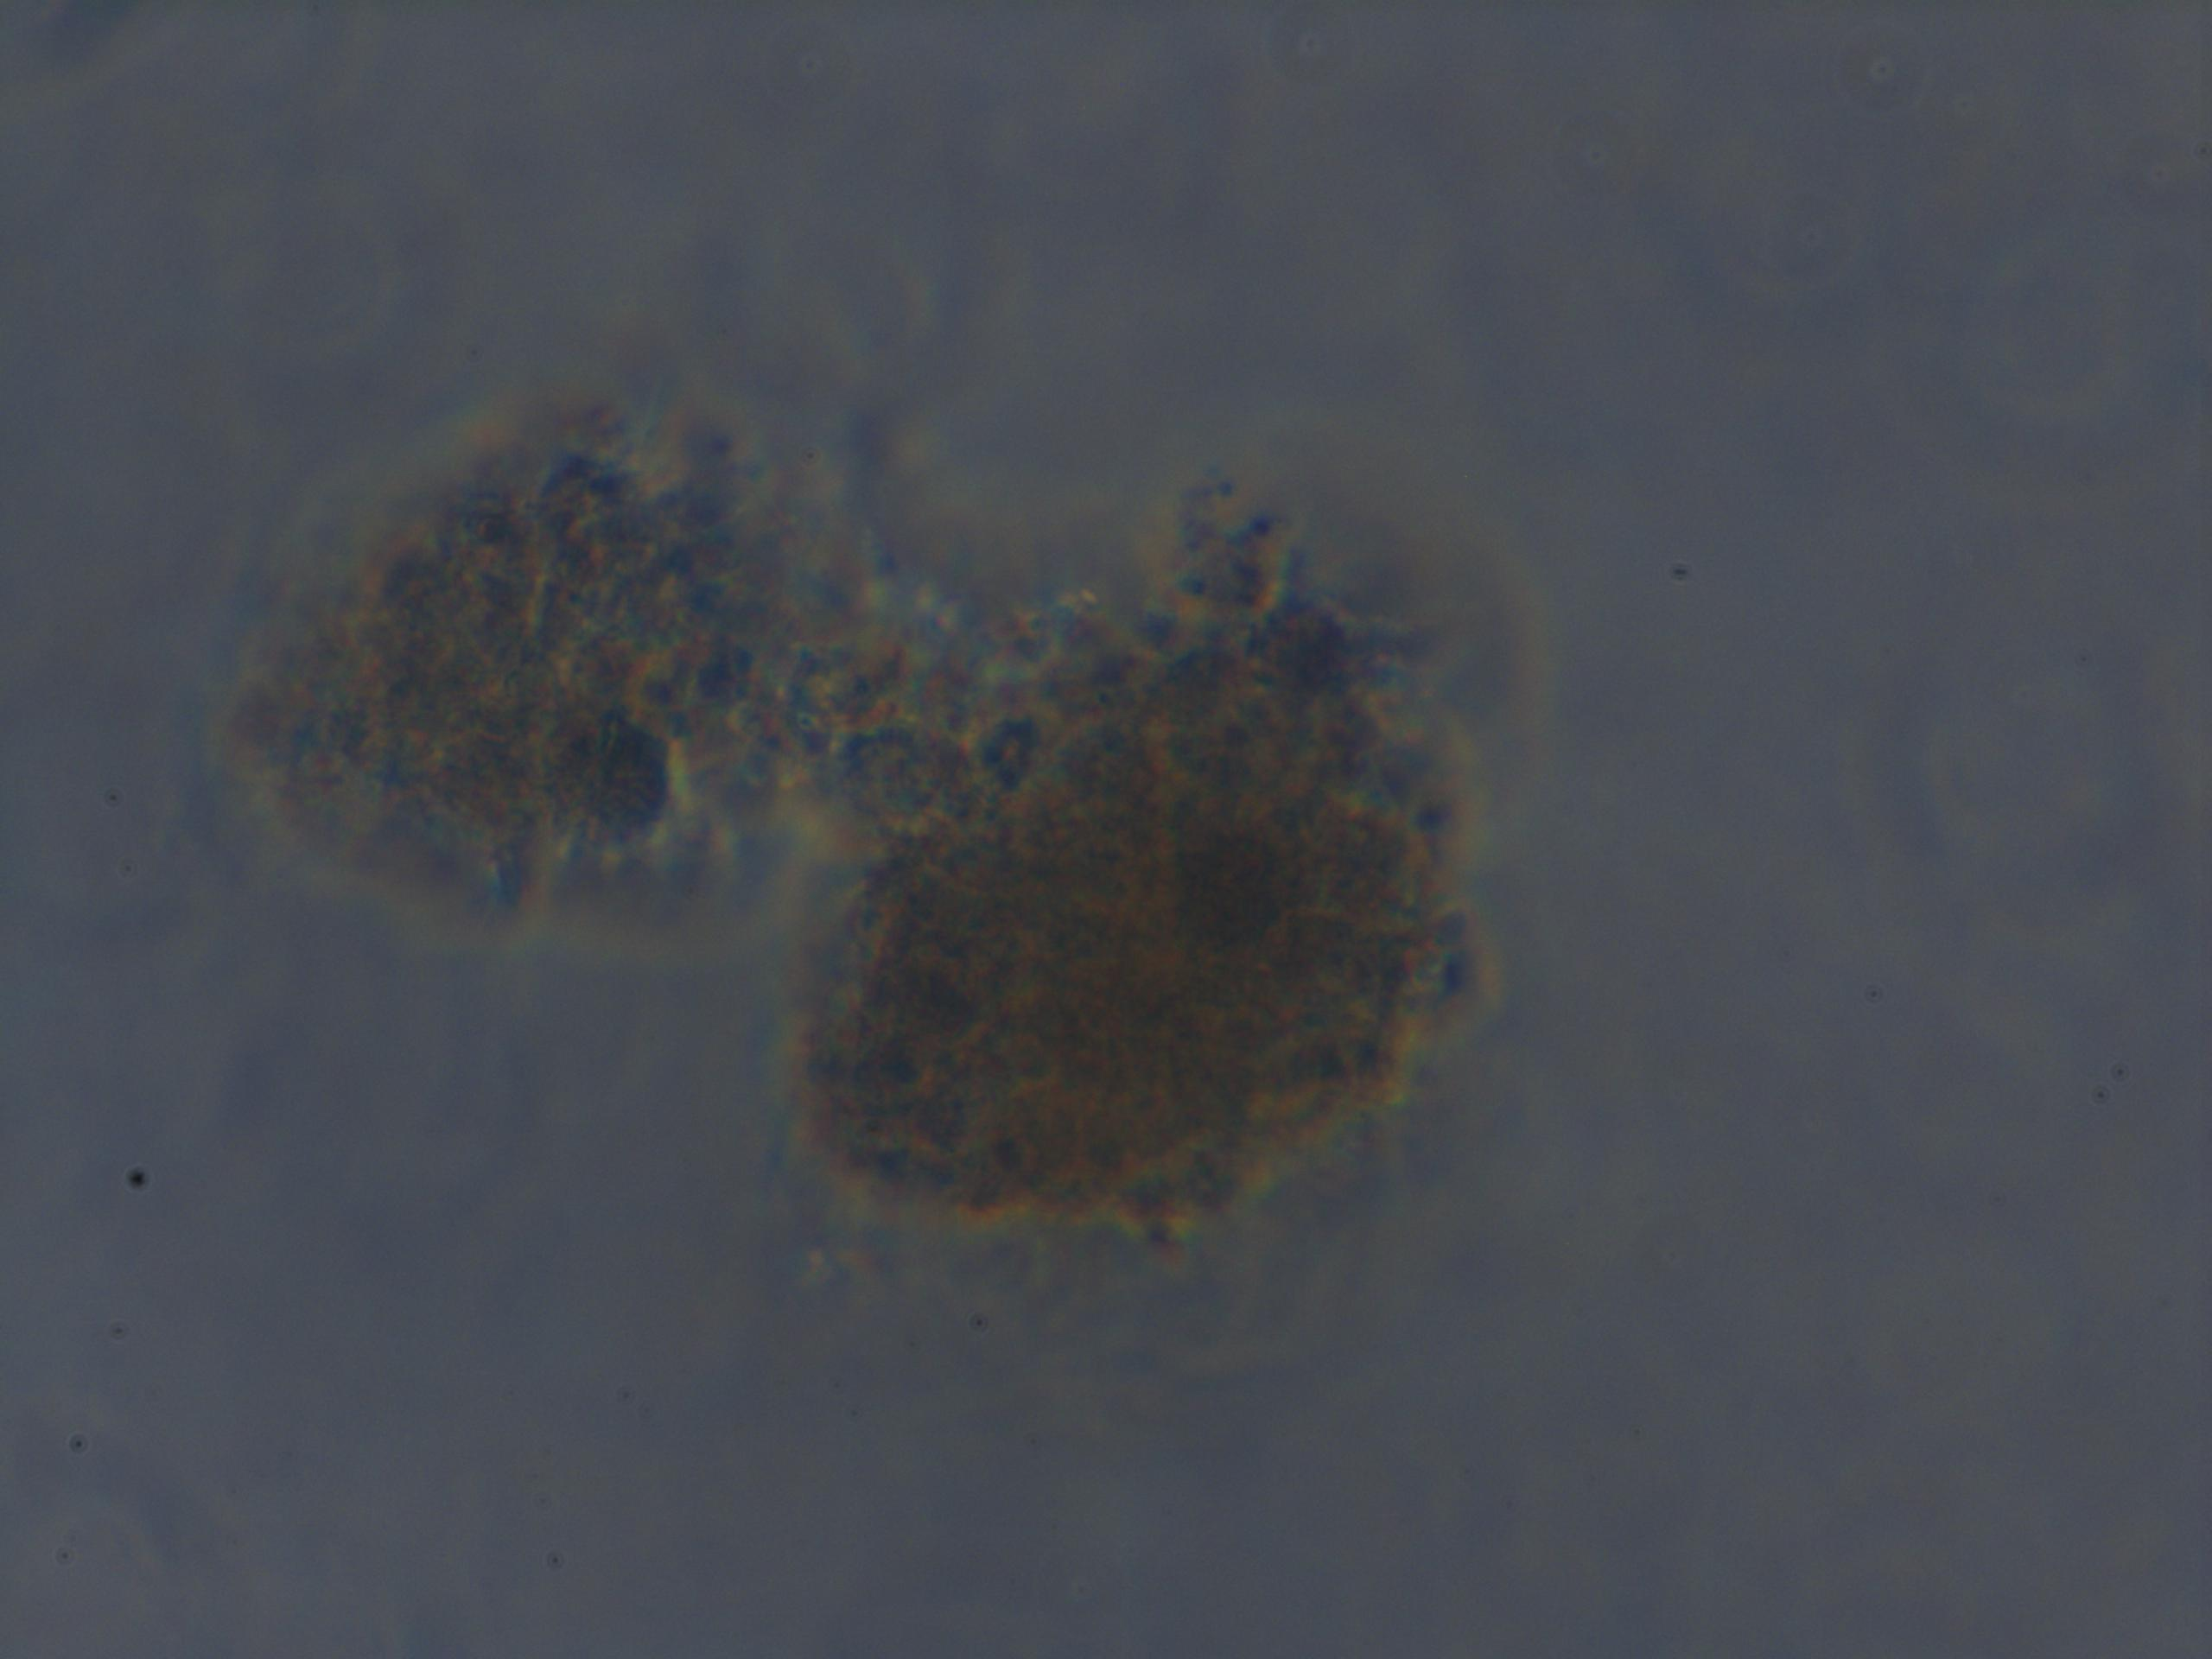spherical_floc: (784, 474, 1503, 1267)
